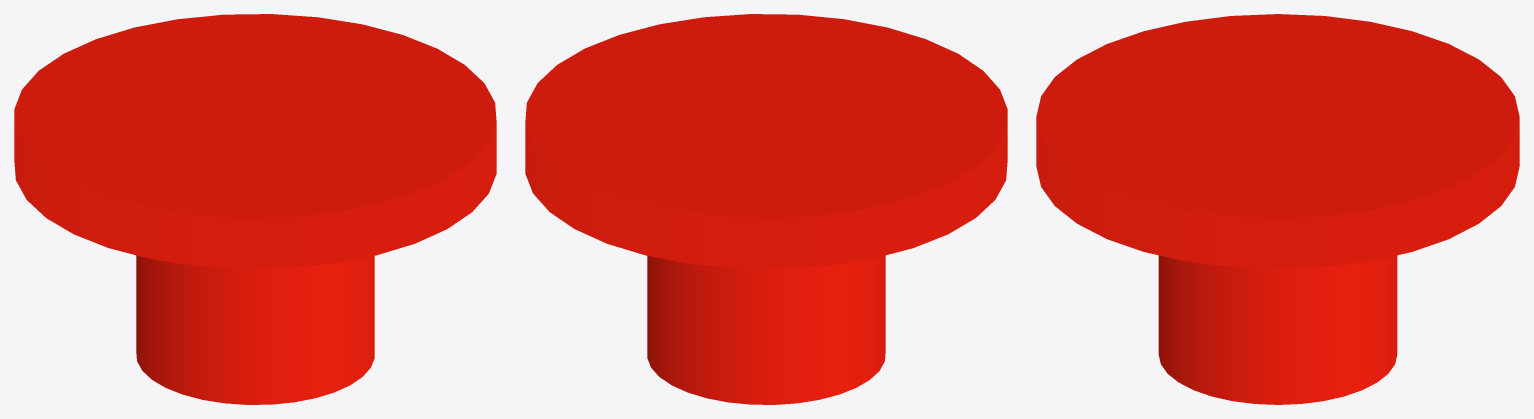
The model's file is Boton.fbx.
3 views of the same model, side by side, from view 1: azimuth 30°, elevation 25°; view 2: azimuth 150°, elevation 25°; view 3: azimuth 270°, elevation 25° (orthographic).
Parts seen in each view (by area): view 1: Cylinder.001, Cylinder; view 2: Cylinder.001, Cylinder; view 3: Cylinder.001, Cylinder.
Boxes of the visible parts, left/top/right/bottom form: Cylinder.001: left=14, top=14, right=496, bottom=268; Cylinder: left=136, top=255, right=374, bottom=404; Cylinder.001: left=525, top=14, right=1007, bottom=268; Cylinder: left=647, top=255, right=885, bottom=404; Cylinder.001: left=1036, top=14, right=1519, bottom=268; Cylinder: left=1158, top=255, right=1397, bottom=404.
Bounding box in the file's own units: 200 × 109 × 200.
